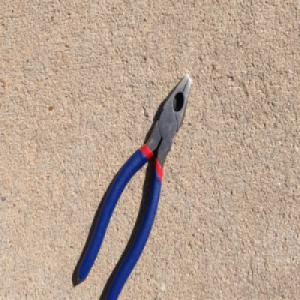Pliers: (77, 70, 194, 300)
